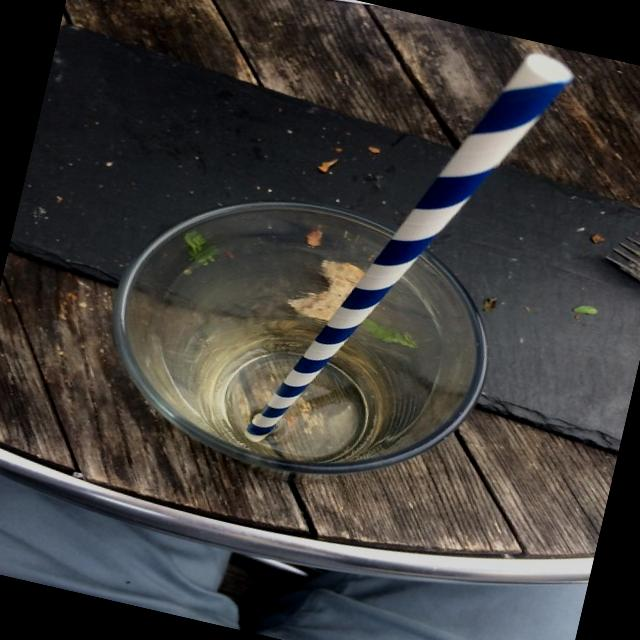Trash: (81, 0, 557, 520), (596, 224, 640, 289)
